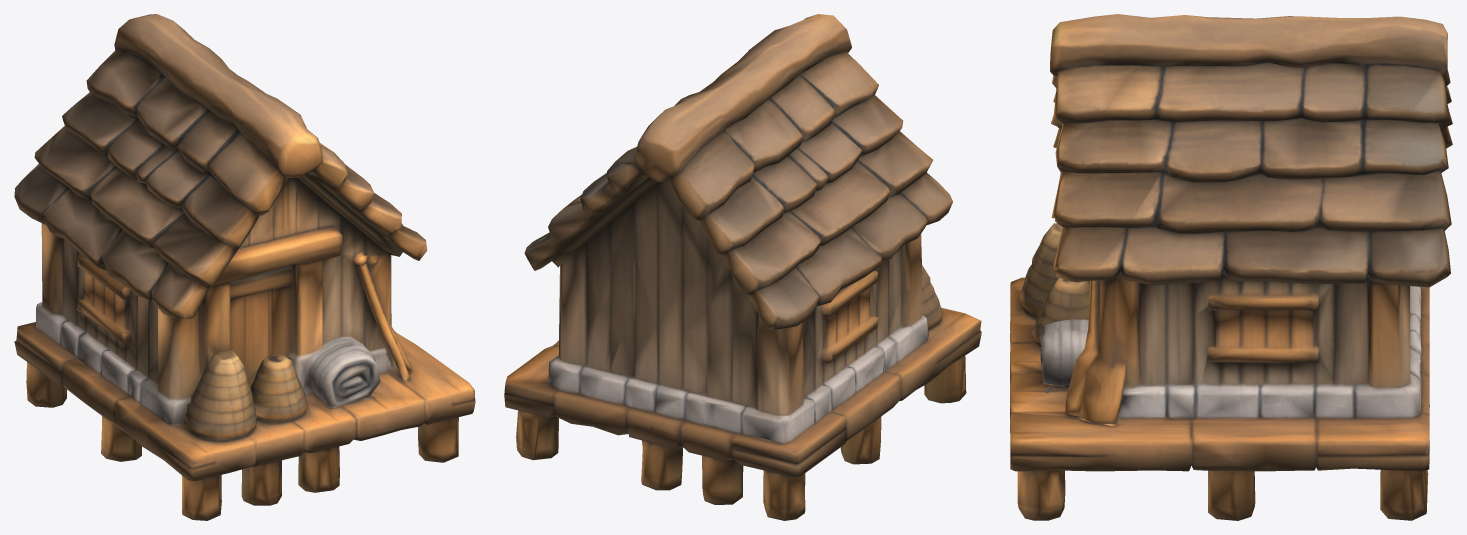
Rendered from fishery.glb.
3 renders of one model, left to right at view 1: azimuth 30°, elevation 25°; view 2: azimuth 150°, elevation 25°; view 3: azimuth 270°, elevation 25°, orthographic. The views are drawn at different scales.
Visible parts, largest first — view 1: geometry_0.001; view 2: geometry_0.001; view 3: geometry_0.001.
Part boxes in pixels (x1,y1,x2,y2): geometry_0.001: [14, 14, 475, 520]; geometry_0.001: [504, 14, 981, 520]; geometry_0.001: [1010, 14, 1452, 520].
Size of the model in its own units: 1.67 by 2 by 1.91.
1 material, 1 textured.
